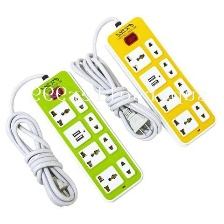three_eye_plug: (29, 64, 151, 205), (104, 12, 219, 147)
